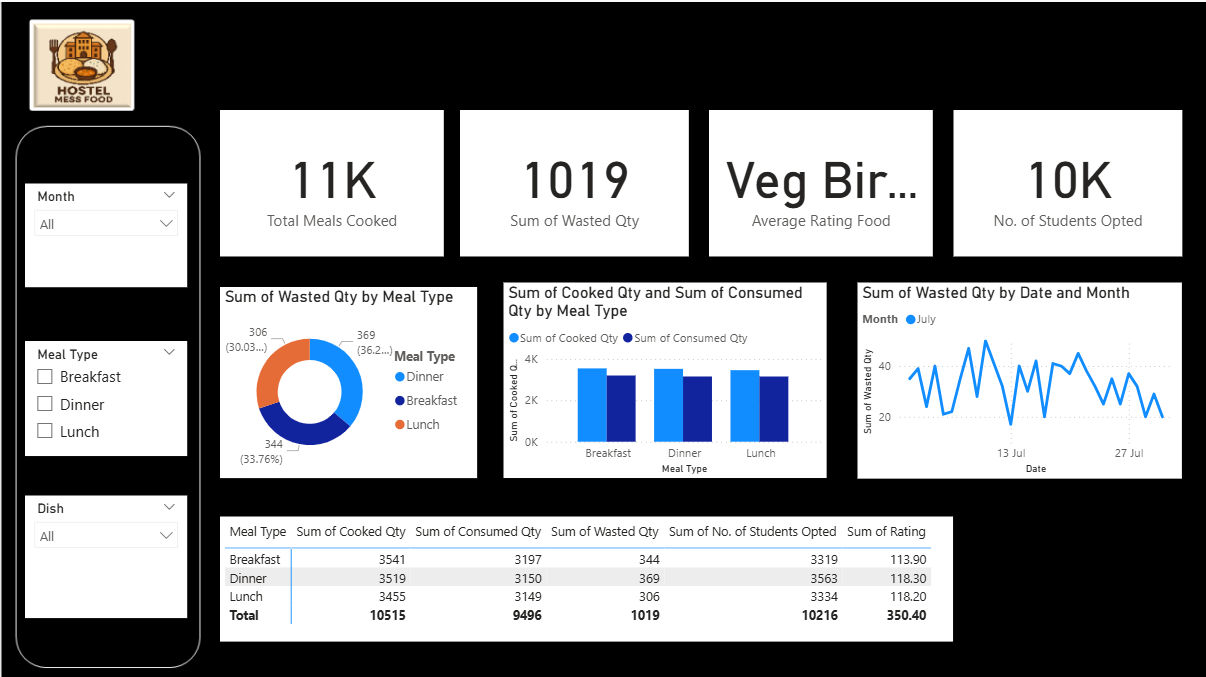

This screenshot's page, from the dashboard's own definition file:
{"tool":"powerbi","page":{"name":"Page 1","canvas":[1280,720],"ordinal":0},"visuals":[{"type":"card","fields":{"Values":["Sum(Sheet1.Cooked Qty)"]},"box":[232.5,115,237.5,155],"z":0},{"type":"card","fields":{"Values":["Sum(Sheet1.Wasted Qty)"]},"box":[487.5,115,242.5,155],"z":1000},{"type":"card","fields":{"Values":["Min(Sheet1.Dish)"]},"box":[750,115,237.5,155],"z":2000},{"type":"card","fields":{"Values":["Sum(Sheet1.No. of Students Opted)"]},"box":[1010,115,242.5,155],"z":3000},{"type":"slicer","fields":{"Values":["Sheet1.Date.Variation.Date Hierarchy.Month"]},"box":[26,192,172,110],"z":4000},{"type":"slicer","fields":{"Values":["Sheet1.Meal Type"]},"box":[26,360,172,122],"z":5000},{"type":"slicer","fields":{"Values":["Sheet1.Dish"]},"box":[26,524,172,130],"z":6000},{"type":"lineChart","fields":{"Category":["Sheet1.Date"],"Series":["Sheet1.Date.Variation.Date Hierarchy.Month"],"Y":["Sum(Sheet1.Wasted Qty)"]},"box":[908,298,344,208],"z":7000},{"type":"clusteredColumnChart","fields":{"Category":["Sheet1.Meal Type"],"Y":["Sum(Sheet1.Cooked Qty)","Sum(Sheet1.Consumed Qty)"]},"box":[532.5,297.5,342.5,207.5],"z":8000},{"type":"donutChart","fields":{"Y":["Sum(Sheet1.Wasted Qty)"],"Category":["Sheet1.Meal Type"]},"box":[232.5,302.5,272.5,202.5],"z":8001},{"type":"pivotTable","fields":{"Rows":["Sheet1.Meal Type"],"Values":["Sum(Sheet1.Cooked Qty)","Sum(Sheet1.Consumed Qty)","Sum(Sheet1.Wasted Qty)","Sum(Sheet1.No. of Students Opted)","Sum(Sheet1.Rating)"]},"box":[232.5,545,777.5,132.5],"z":8002}]}

Visuals, with their boxes in screenshot pixels (x1, y1, x2, y2), scaled from the page's 1280x720 canvas onto the 1206x677 screenshot:
card - Sum(Sheet1.Cooked Qty): 219, 108, 443, 254
card - Sum(Sheet1.Wasted Qty): 459, 108, 688, 254
card - Min(Sheet1.Dish): 707, 108, 930, 254
card - Sum(Sheet1.No. of Students Opted): 952, 108, 1180, 254
slicer - Sheet1.Date.Variation.Date Hierarchy.Month: 24, 181, 187, 284
slicer - Sheet1.Meal Type: 24, 338, 187, 453
slicer - Sheet1.Dish: 24, 493, 187, 615
lineChart - Sheet1.Date x Sheet1.Date.Variation.Date Hierarchy.Month: 856, 280, 1180, 476
clusteredColumnChart - Sheet1.Meal Type x Sum(Sheet1.Cooked Qty): 502, 280, 824, 475
donutChart - Sum(Sheet1.Wasted Qty) x Sheet1.Meal Type: 219, 284, 476, 475
pivotTable - Sheet1.Meal Type x Sum(Sheet1.Cooked Qty): 219, 512, 952, 637
